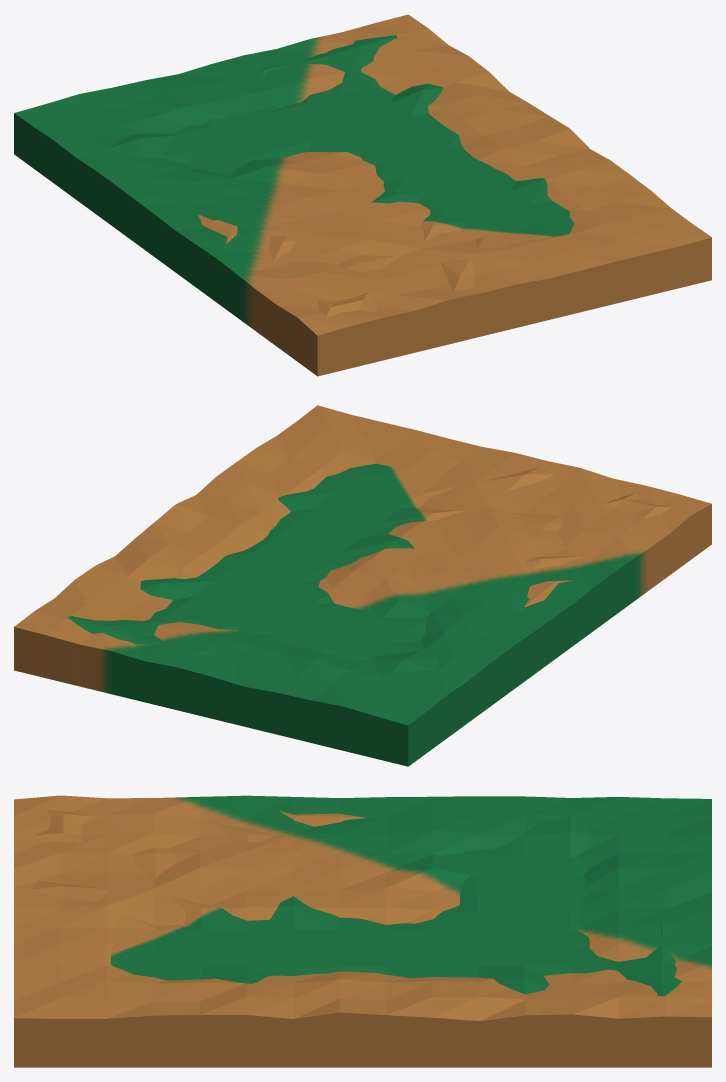
File: Nivell1.FBX
3 views of the same model, one above another, from view 1: azimuth 30°, elevation 25°; view 2: azimuth 150°, elevation 25°; view 3: azimuth 270°, elevation 25° (orthographic). The views are drawn at different scales.
Visible parts, largest first — view 1: Plane001; view 2: Plane001; view 3: Plane001.
Boxes of the visible parts, bbox=[...] form: Plane001: bbox=[14, 14, 711, 376]; Plane001: bbox=[14, 405, 711, 766]; Plane001: bbox=[14, 795, 711, 1067].
Size of the model in its own units: 5.96 by 0.6909 by 7.95.
